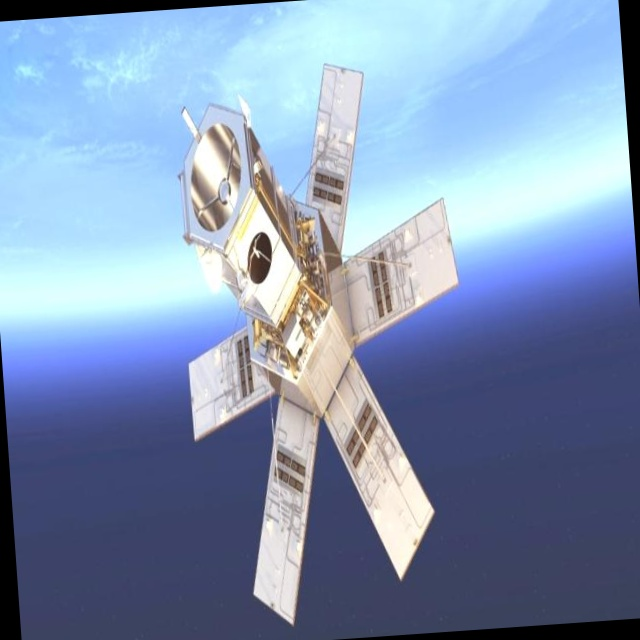medium_debris: (161, 49, 480, 640)
